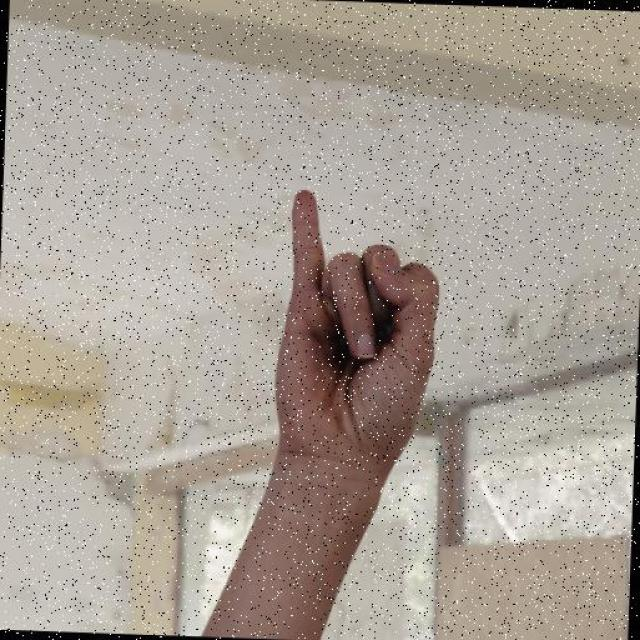I: (267, 186, 449, 483)
